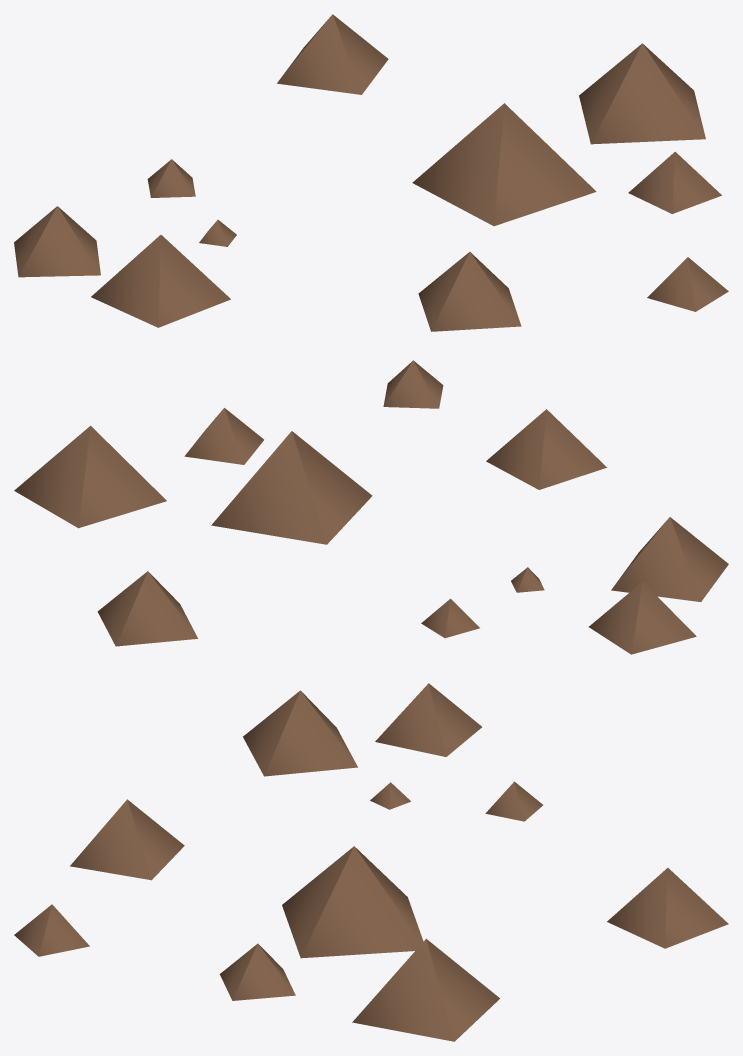
File: dressing-transformed.glb
3 views of the same model, one above another, from view 1: azimuth 30°, elevation 25°; view 2: azimuth 150°, elevation 25°; view 3: azimuth 270°, elevation 25° (orthographic). The views are drawn at different scales.
Size of the model in its own units: 207 by 23.84 by 189.
